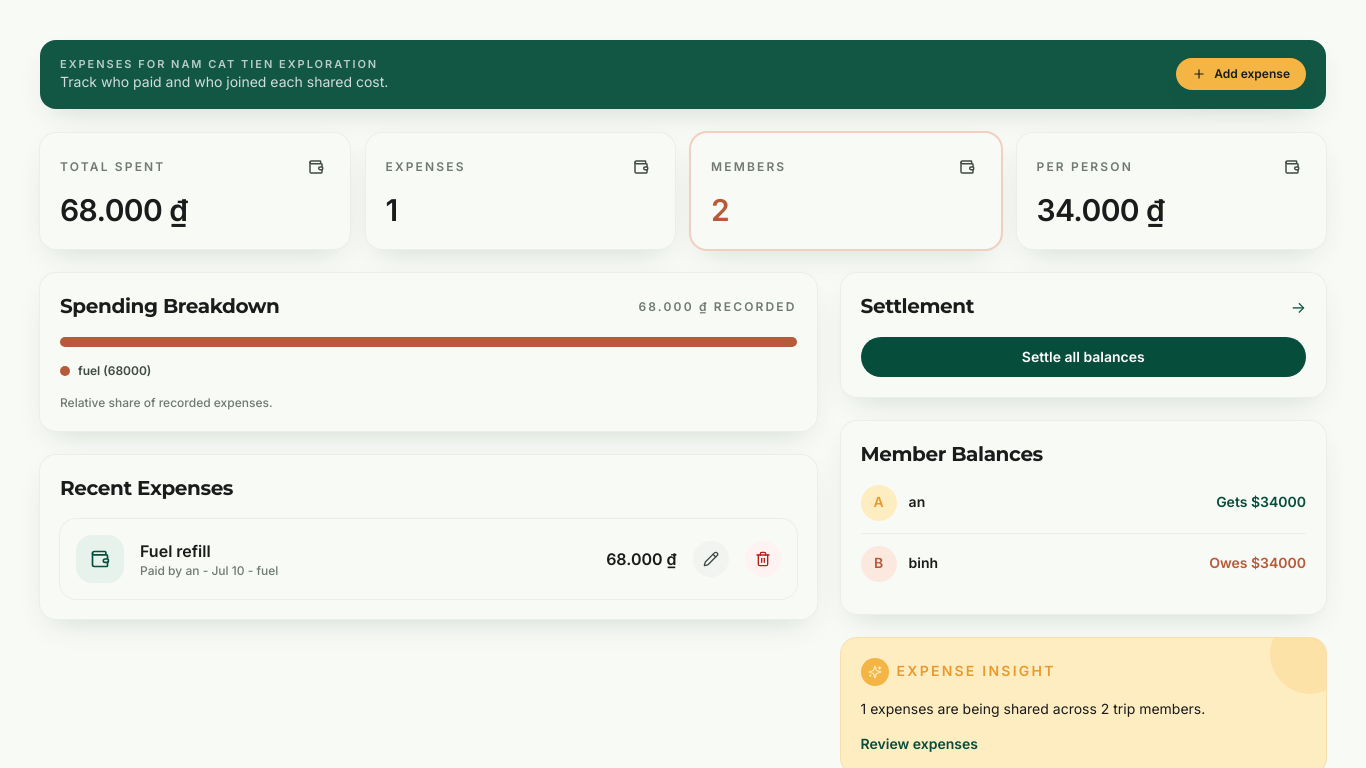
it: ExpensesSurface › opens the edit form for an existing expense
Click the button with test id "expenses-edit-expense-1": click(711, 558) 693,540 -> 729,576
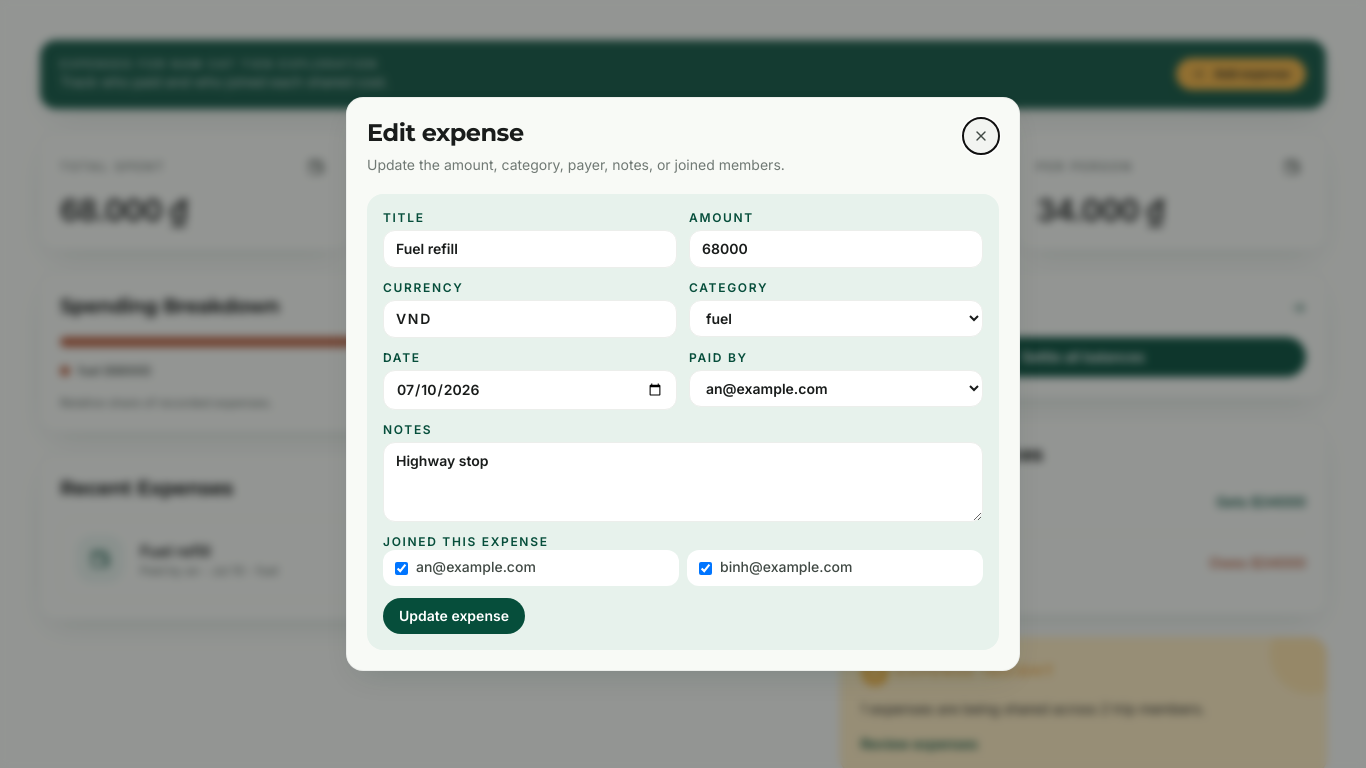
Result: the form with test id "expenses-edit-form" is shown at 367,194 -> 999,650
Result: the field showing "Fuel refill" is shown at 383,230 -> 677,268
Result: the date field showing "2026-07-10" is shown at 383,370 -> 677,410
